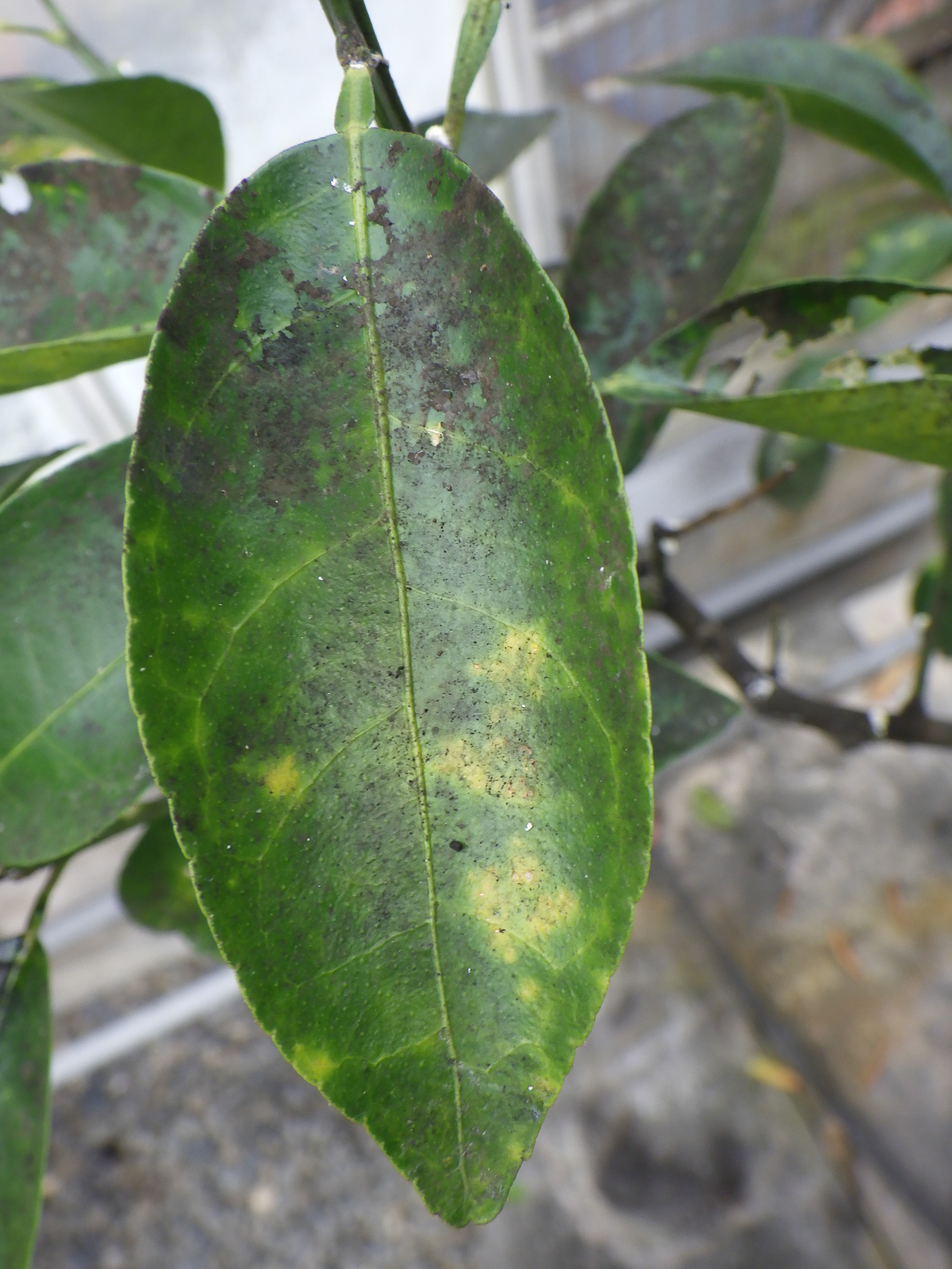Sooty_Mold: (124, 82, 651, 1223)
